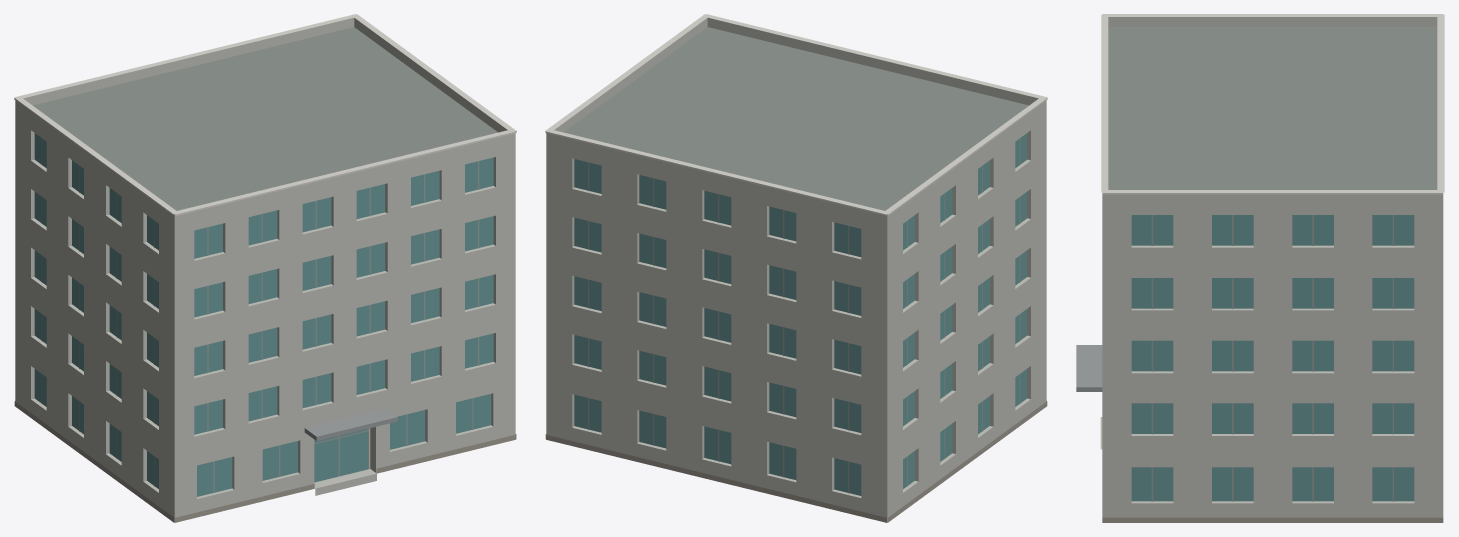
3 views of the same model, side by side, from view 1: azimuth 30°, elevation 25°; view 2: azimuth 150°, elevation 25°; view 3: azimuth 270°, elevation 25° (orthographic). The views are drawn at different scales.
Visible parts, largest first — view 1: dream__wall, dream__roof, dream__glass, dream__parapet, dream__trim, dream__frame, dream__base, dream__canopy, dream__entranceThreshold_0; view 2: dream__wall, dream__roof, dream__glass, dream__parapet, dream__trim, dream__base, dream__frame; view 3: dream__wall, dream__roof, dream__glass, dream__parapet, dream__trim, dream__base, dream__frame, dream__canopy.
Part boxes in pixels (bbox=[...]): dream__wall: bbox=[15, 107, 515, 522]; dream__roof: bbox=[33, 27, 497, 522]; dream__glass: bbox=[34, 133, 493, 496]; dream__parapet: bbox=[15, 18, 515, 223]; dream__trim: bbox=[14, 14, 516, 216]; dream__frame: bbox=[41, 138, 479, 493]; dream__base: bbox=[14, 401, 516, 522]; dream__canopy: bbox=[304, 408, 397, 440]; dream__entranceThreshold_0: bbox=[314, 469, 376, 495]; dream__wall: bbox=[546, 107, 1046, 522]; dream__roof: bbox=[564, 27, 1028, 522]; dream__glass: bbox=[574, 133, 1027, 495]; dream__parapet: bbox=[546, 18, 1046, 223]; dream__trim: bbox=[545, 14, 1047, 216]; dream__base: bbox=[545, 401, 1047, 522]; dream__frame: bbox=[588, 138, 1020, 493]; dream__wall: bbox=[1102, 202, 1443, 517]; dream__roof: bbox=[1108, 27, 1437, 189]; dream__glass: bbox=[1131, 215, 1414, 501]; dream__parapet: bbox=[1102, 17, 1443, 202]; dream__trim: bbox=[1101, 14, 1444, 194]; dream__base: bbox=[1102, 517, 1443, 522]; dream__frame: bbox=[1151, 215, 1393, 501]; dream__canopy: bbox=[1076, 345, 1102, 391].
Size of the model in its own units: 21.12 by 18.55 by 18.36.
